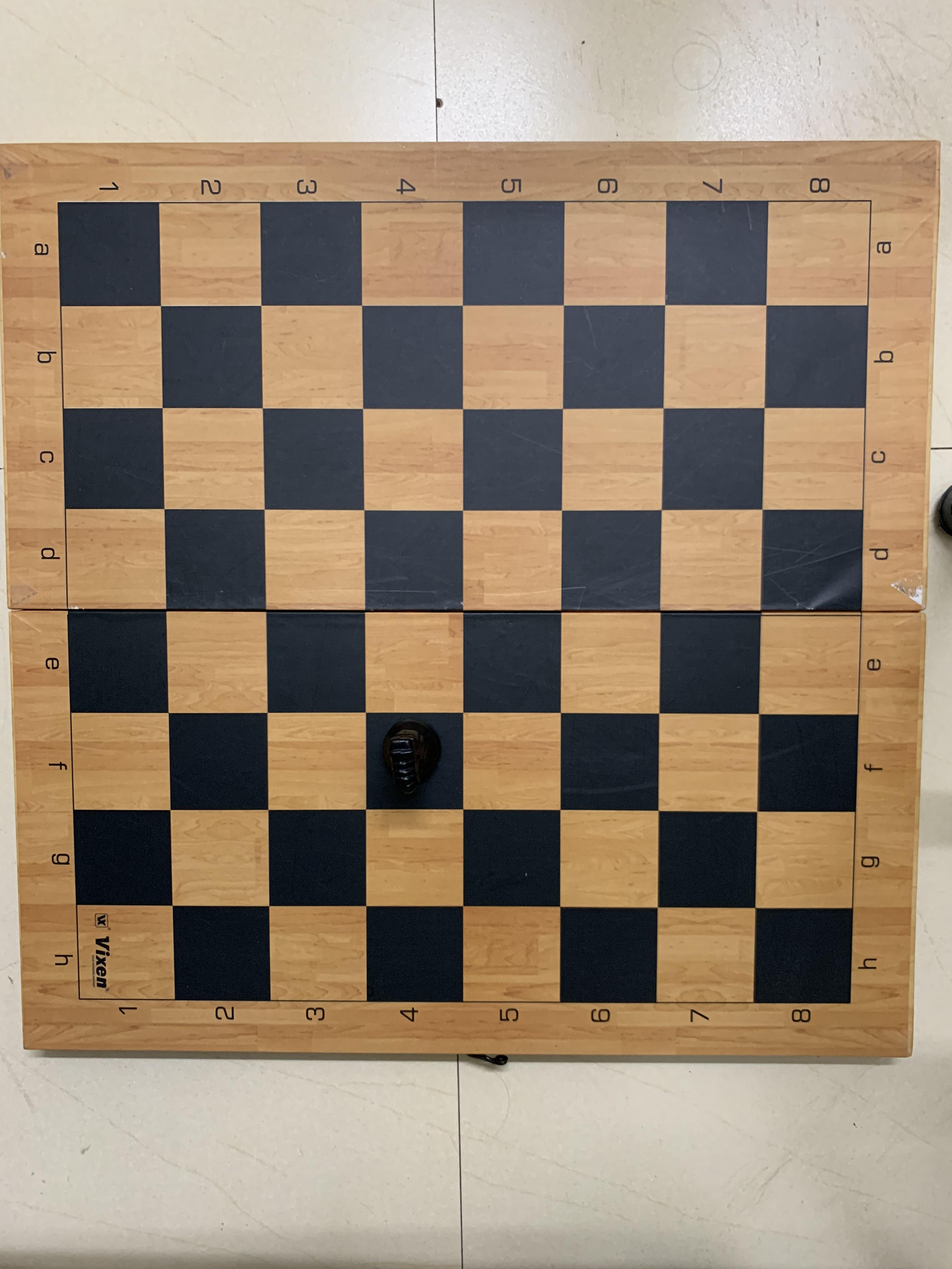black_knight: (363, 714, 466, 813)
